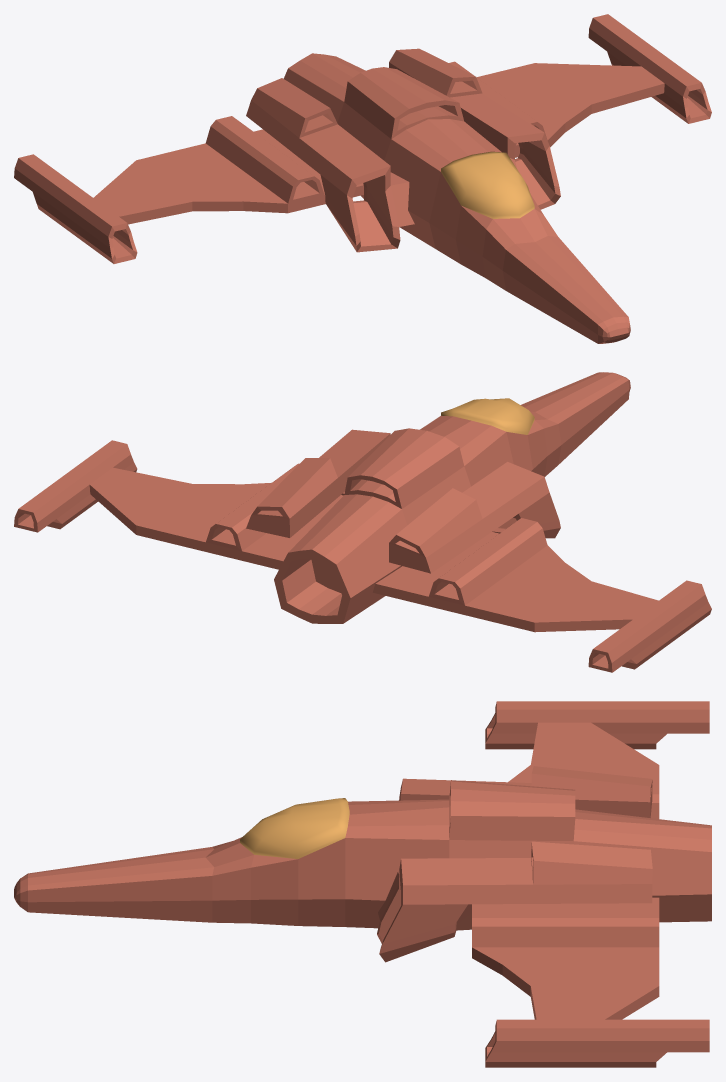
The model's file is legion.glb.
The picture shows the model from 3 angles, top to bottom: view 1: azimuth 30°, elevation 25°; view 2: azimuth 150°, elevation 25°; view 3: azimuth 270°, elevation 25°; orthographic projection. The views are drawn at different scales.
Visible parts, largest first — view 1: Spaceship3; view 2: Spaceship3; view 3: Spaceship3.
Boxes of the visible parts, left/top/right/bottom form: Spaceship3: left=14, top=14, right=711, bottom=343; Spaceship3: left=14, top=372, right=711, bottom=672; Spaceship3: left=14, top=701, right=711, bottom=1067.
Bounding box in the file's own units: 10.38 × 1.86 × 9.21.
